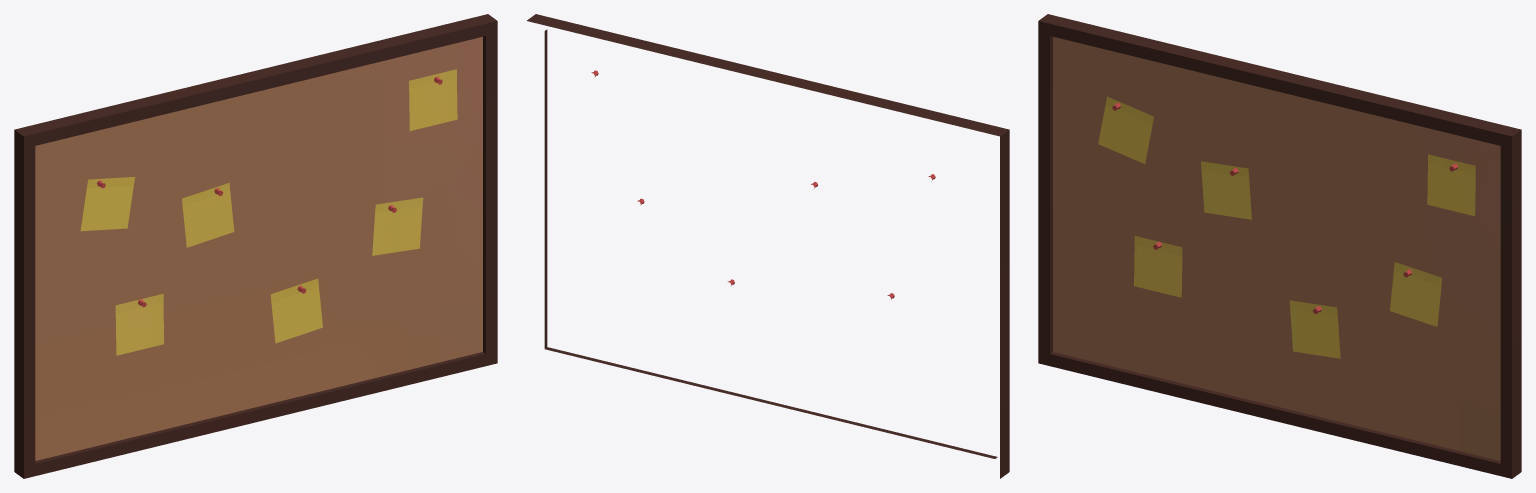
The model's file is corkboard.glb.
3 renders of one model, left to right at view 1: azimuth 30°, elevation 25°; view 2: azimuth 150°, elevation 25°; view 3: azimuth 330°, elevation 25°, orthographic.
Parts seen in each view (by area): view 1: Wall_corkboard_with_post_it_notes; view 2: Wall_corkboard_with_post_it_notes; view 3: Wall_corkboard_with_post_it_notes.
Boxes of the visible parts, x1=… form: Wall_corkboard_with_post_it_notes: x1=14, y1=14, x2=497, y2=478; Wall_corkboard_with_post_it_notes: x1=527, y1=14, x2=1009, y2=478; Wall_corkboard_with_post_it_notes: x1=1038, y1=14, x2=1521, y2=478.
Size of the model in its own units: 1.2 by 0.8288 by 0.0482.
1 material, 1 textured.
